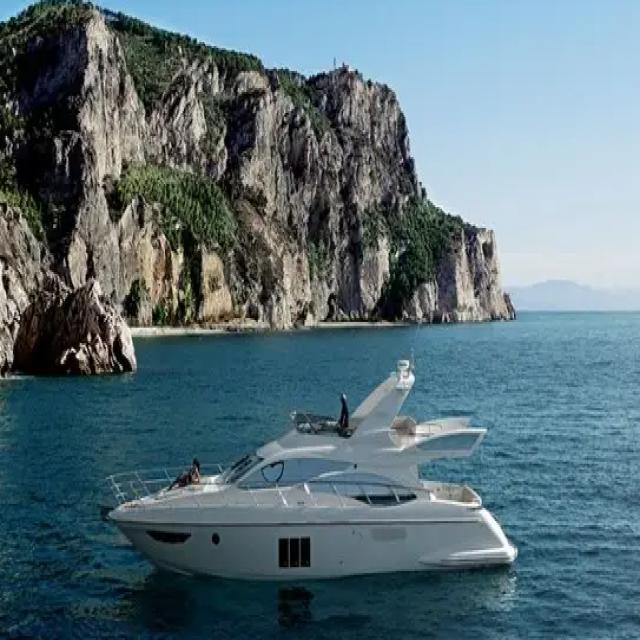houseboat: (99, 337, 520, 607)
